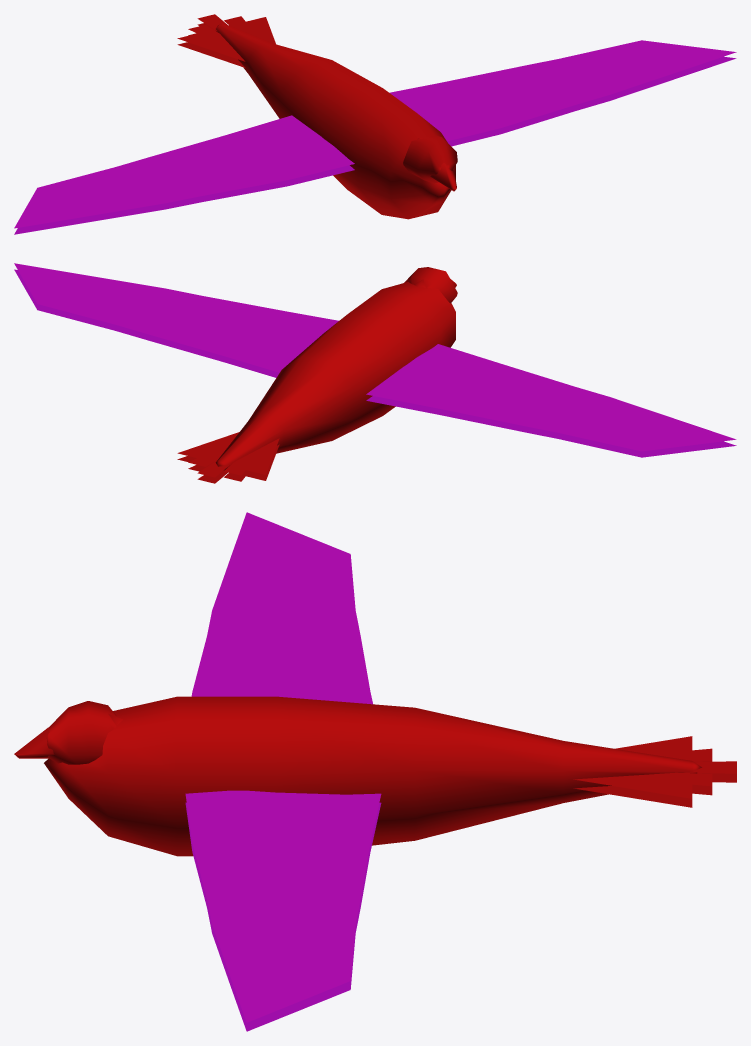
Rendered from kingeider.glb.
The picture shows the model from 3 angles, top to bottom: view 1: azimuth 30°, elevation 25°; view 2: azimuth 150°, elevation 25°; view 3: azimuth 270°, elevation 25°; orthographic projection. The views are drawn at different scales.
Visible parts, largest first — view 1: bird; view 2: bird; view 3: bird.
Part boxes in pixels (<box>): bird: <box>14,14,736,234</box>; bird: <box>14,263,736,483</box>; bird: <box>14,512,736,1031</box>.
Size of the model in its own units: 0.9531 by 0.1172 by 0.5703.
